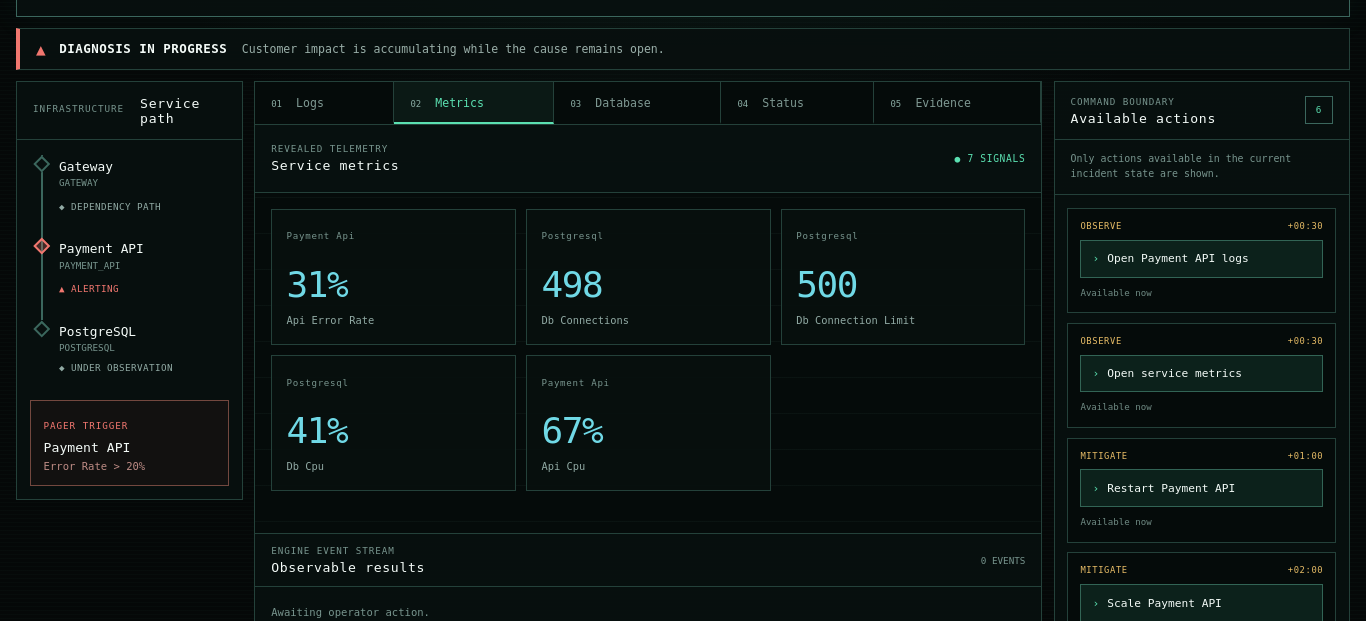
INC-001 operations desktop › explains restart-first temporary mitigation and recurrence in the postmortem
Click the button "Restart Payment API" at point(1202, 488), box [1080, 469, 1323, 507]
(page scrolled)
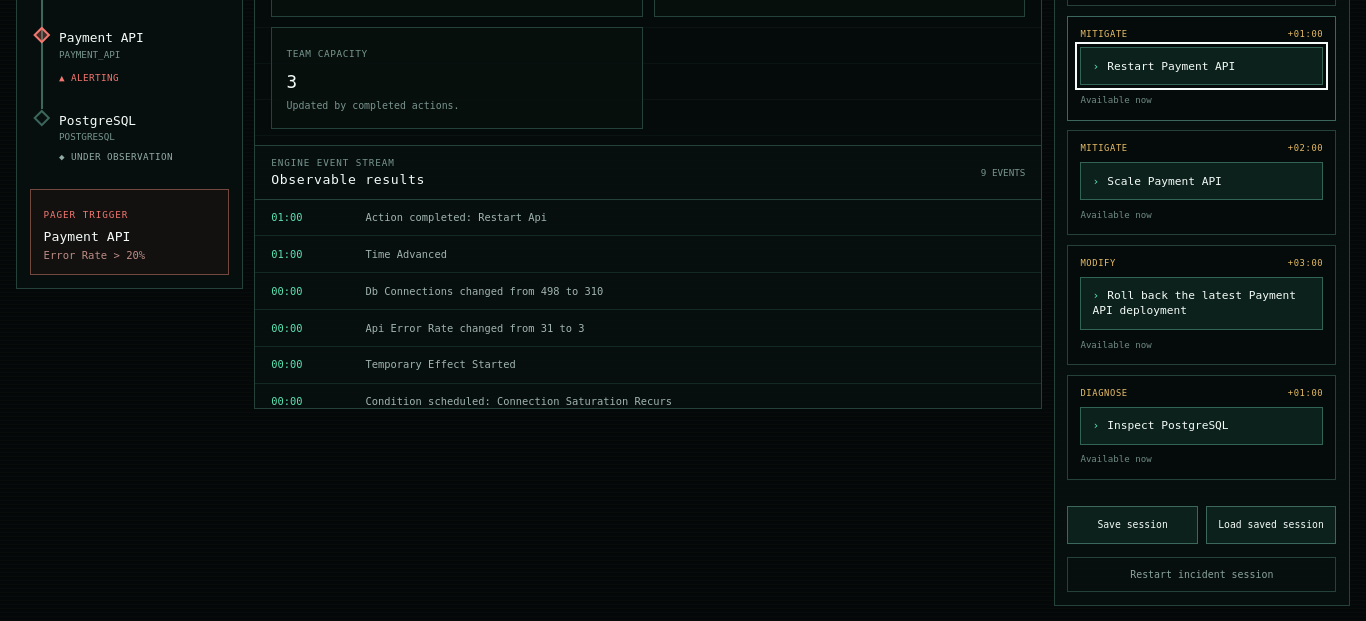
Click the button "Inspect PostgreSQL" at point(1202, 426), box [1080, 407, 1323, 445]
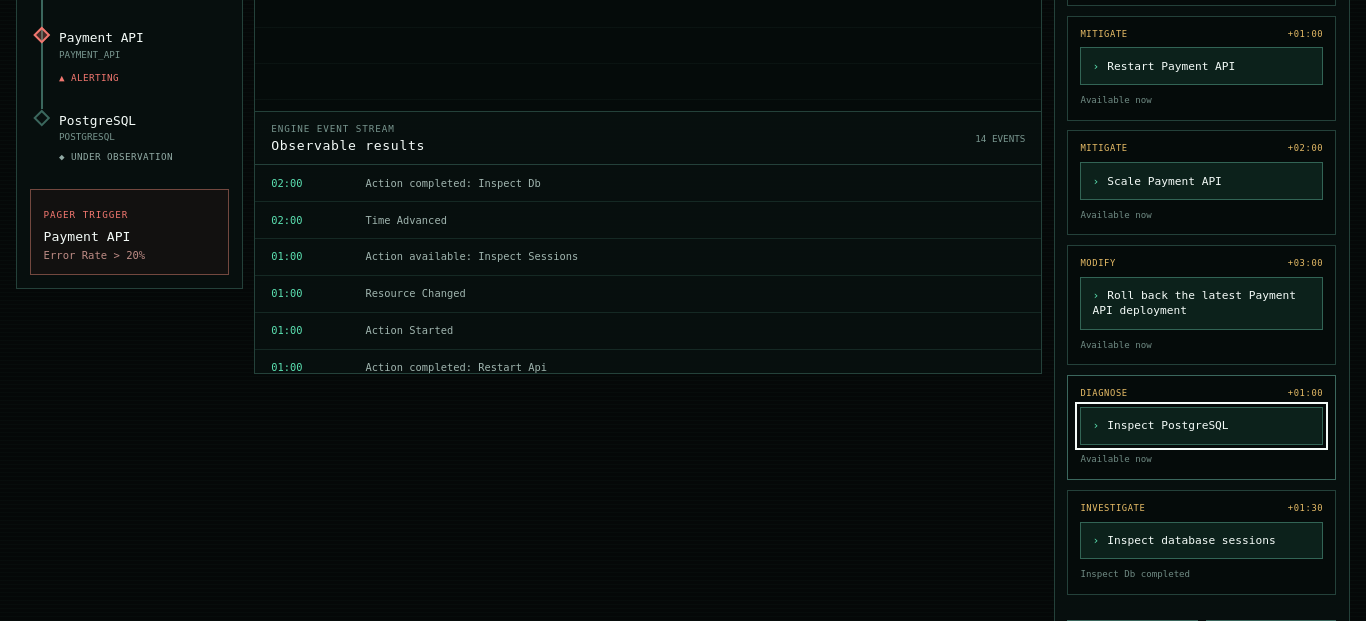
Click the button "Inspect database sessions" at point(1202, 540), box [1080, 522, 1323, 559]
(page scrolled)
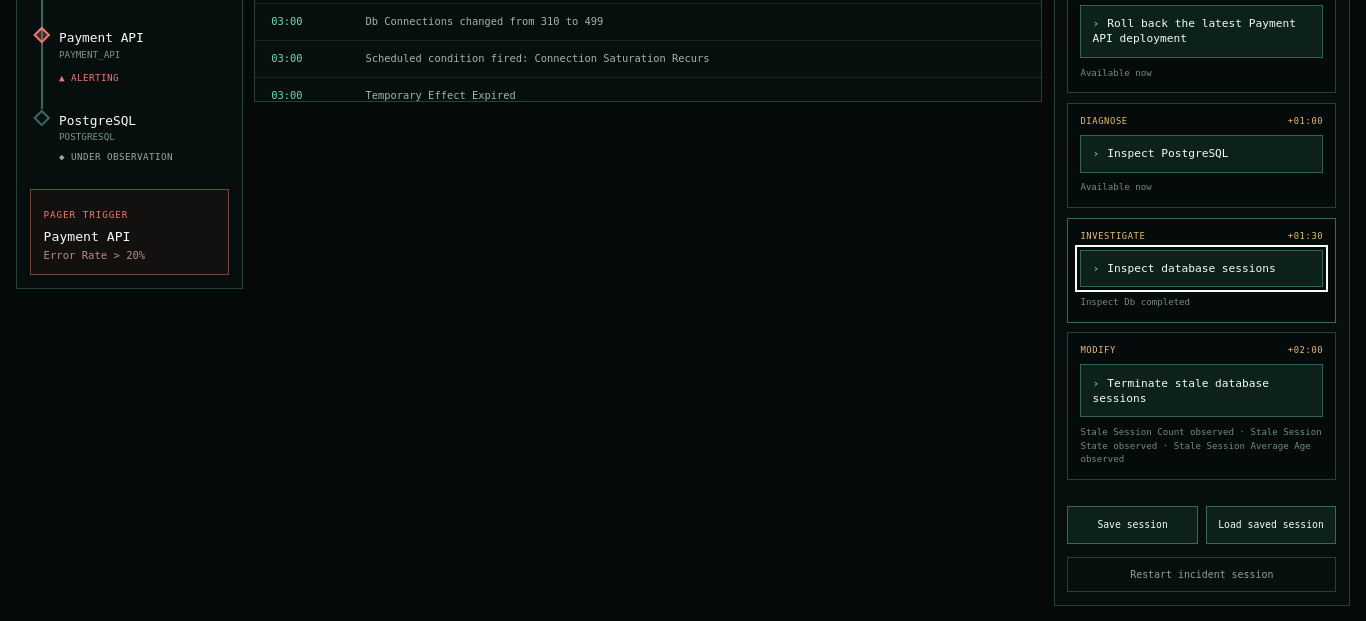
Click the button "Terminate stale database sessions" at point(1202, 391), box [1080, 364, 1323, 417]
(page scrolled)
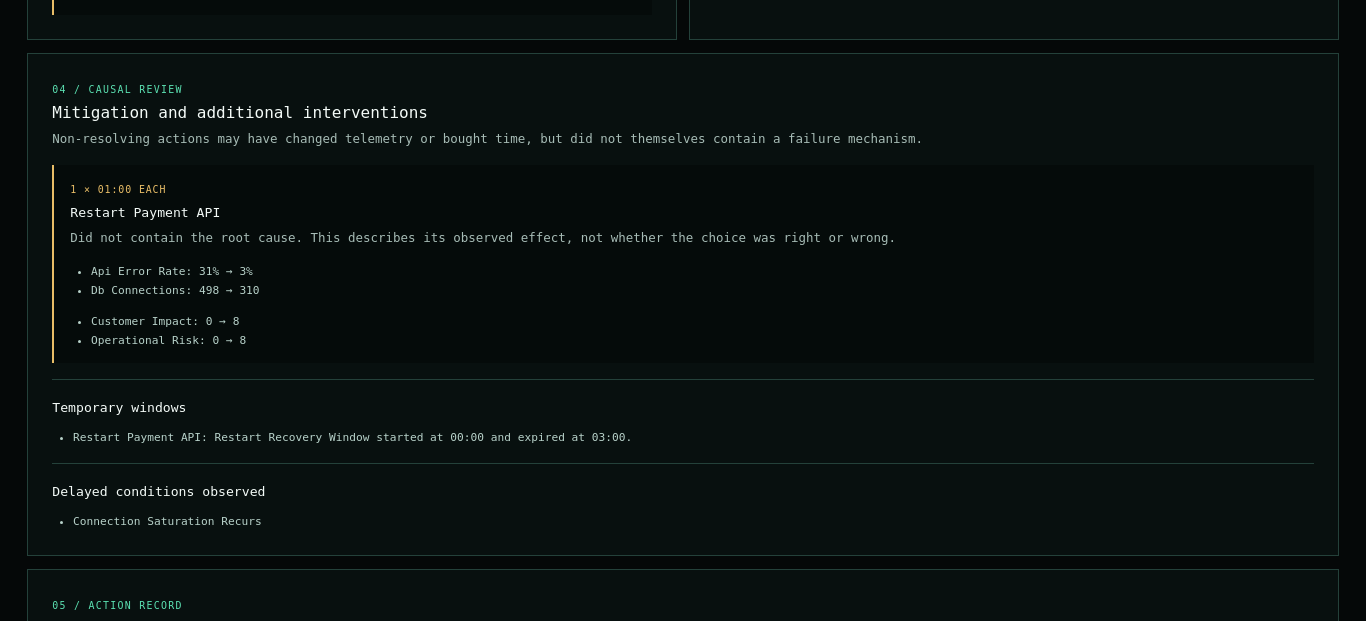
Now the list item "Connection Saturation Recurs" is shown, box [73, 515, 262, 528]
Now the heading "Temporary windows" is shown, box [52, 400, 186, 415]
Now the list item "expired at 03:00" is shown, box [518, 431, 626, 444]
